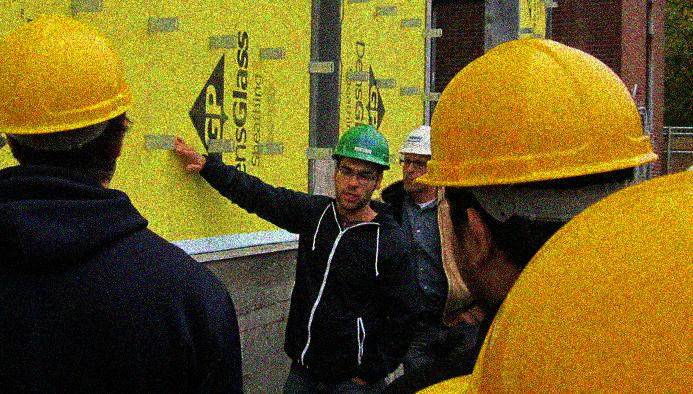helmet: (431, 37, 661, 314), (1, 13, 135, 192), (329, 121, 391, 212), (397, 122, 438, 194)
